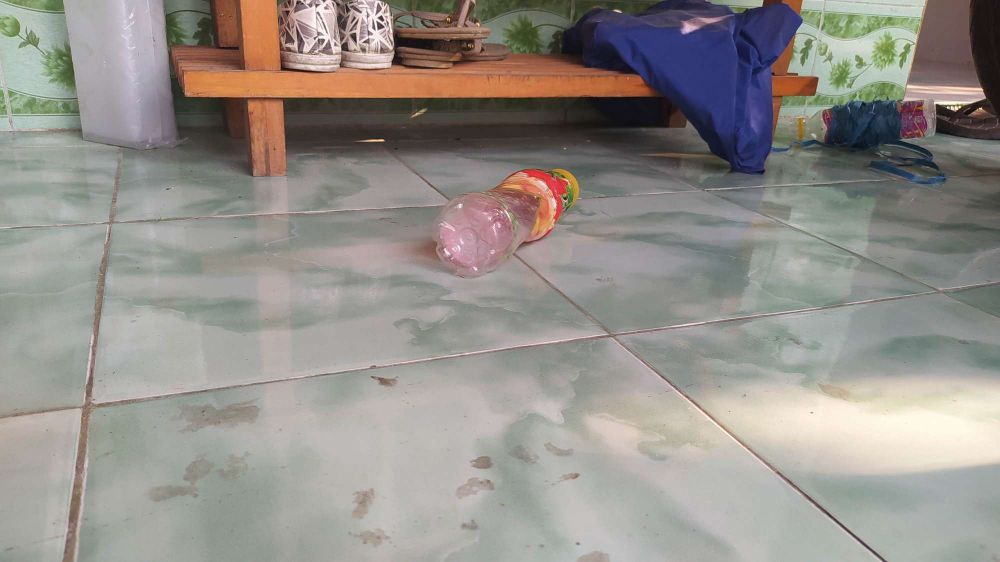botol: (410, 153, 587, 280)
